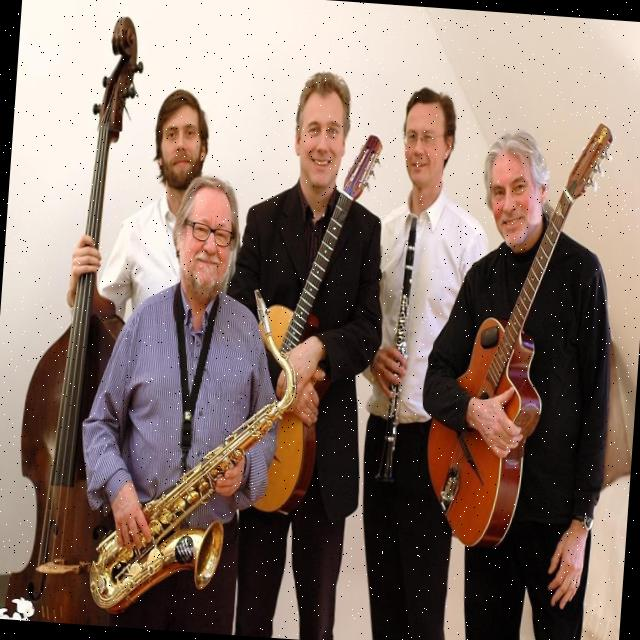clarinet: (370, 207, 422, 493)
guitar: (420, 107, 618, 552), (230, 120, 386, 522)
saxophone: (84, 276, 303, 622)
